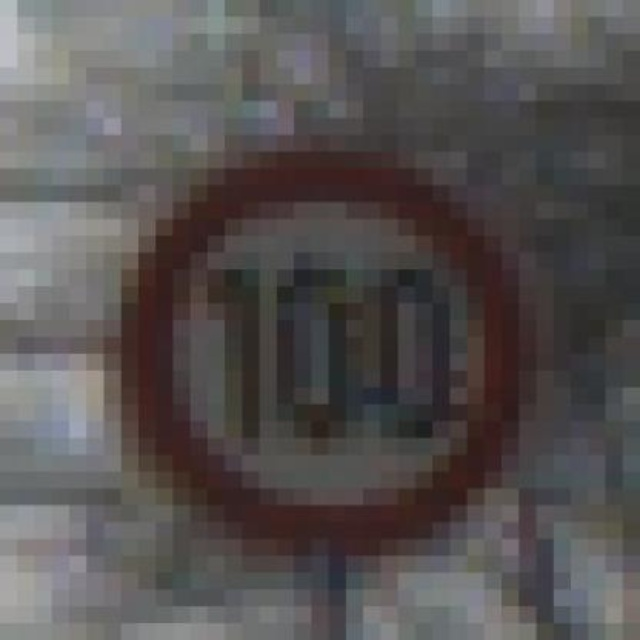Tốc độ tối đa cho phép 100km/h: (137, 152, 527, 542)
